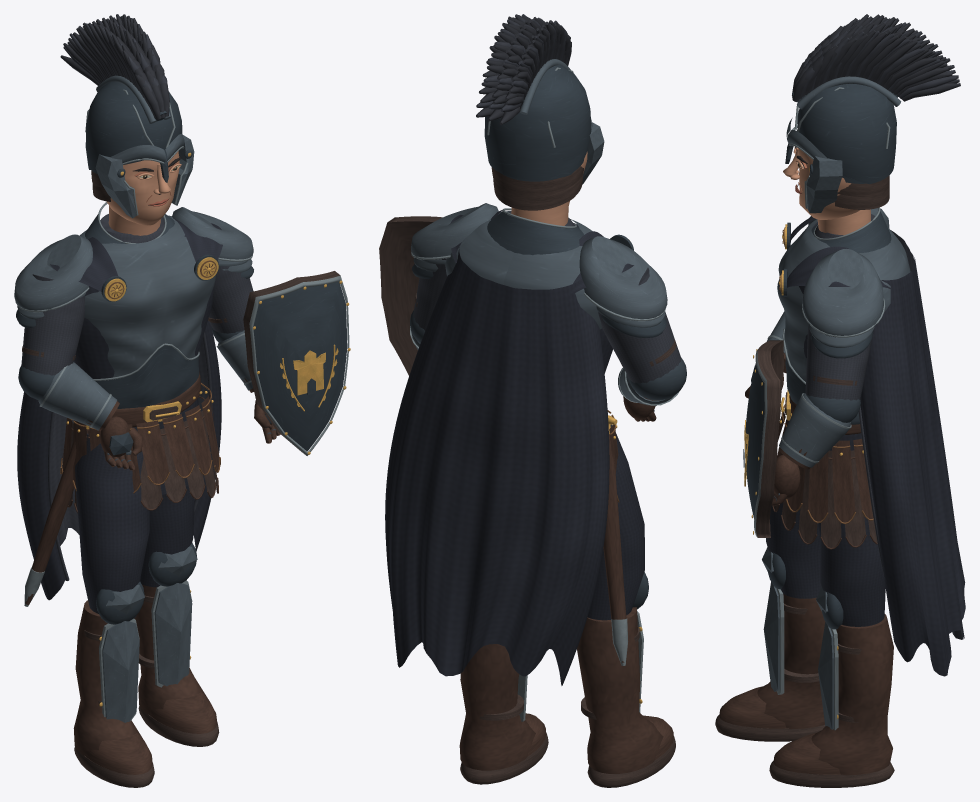
The model's file is Guard.glb.
3 views of the same model, side by side, from view 1: azimuth 30°, elevation 25°; view 2: azimuth 150°, elevation 25°; view 3: azimuth 270°, elevation 25° (orthographic). The views are drawn at different scales.
Parts seen in each view (by area): view 1: Chest, Legs, OffArm, Head, GestureArm; view 2: Chest, Legs, Head, GestureArm, OffArm; view 3: Chest, Legs, Head, OffArm, GestureArm.
Boxes of the visible parts, x1=… form: Chest: x1=17, y1=202, x2=222, y2=606; Legs: x1=73, y1=433, x2=219, y2=787; OffArm: x1=172, y1=207, x2=350, y2=455; Head: x1=60, y1=14, x2=194, y2=225; GestureArm: x1=14, y1=234, x2=142, y2=470; Chest: x1=385, y1=201, x2=633, y2=685; Legs: x1=459, y1=424, x2=675, y2=787; Head: x1=476, y1=14, x2=604, y2=210; GestureArm: x1=579, y1=236, x2=686, y2=421; OffArm: x1=379, y1=203, x2=498, y2=375; Chest: x1=772, y1=207, x2=965, y2=676; Legs: x1=715, y1=420, x2=894, y2=787; Head: x1=783, y1=14, x2=960, y2=219; OffArm: x1=743, y1=249, x2=885, y2=537; GestureArm: x1=745, y1=208, x2=889, y2=398.
Size of the model in its own units: 0.8925 by 2 by 0.6195.
1 material, 1 textured.
